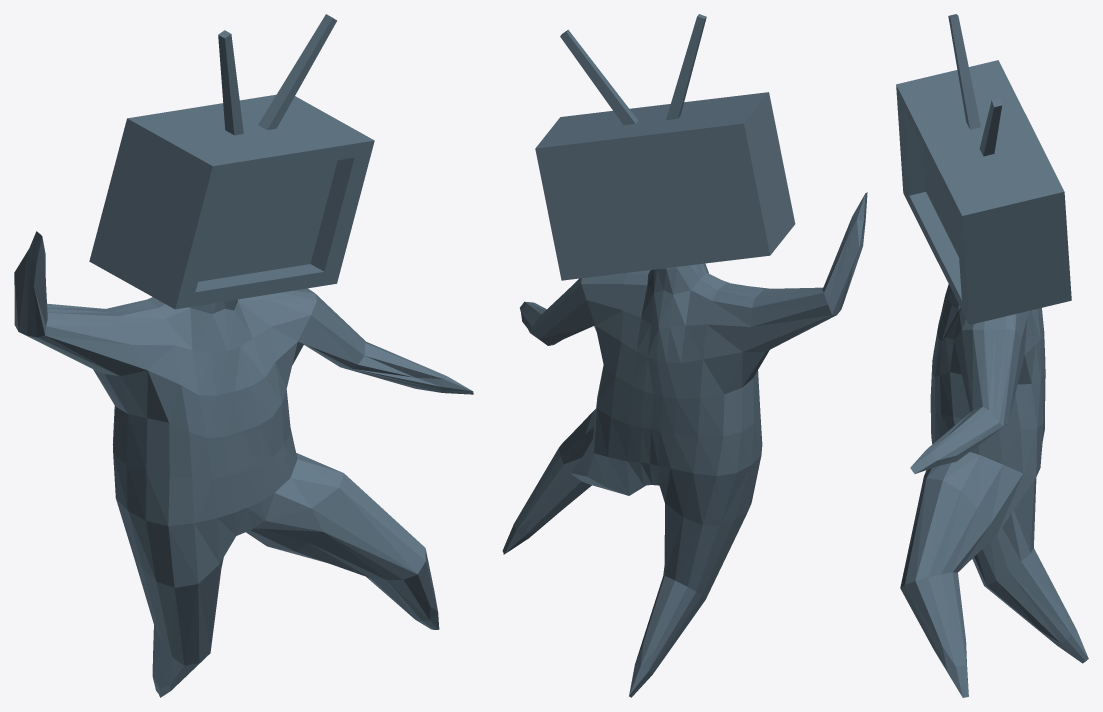
File: TVhead-cavorting2.dae
3 views of the same model, side by side, from view 1: azimuth 30°, elevation 25°; view 2: azimuth 150°, elevation 25°; view 3: azimuth 270°, elevation 25° (orthographic). The views are drawn at different scales.
Parts seen in each view (by area): view 1: Cube_001; view 2: Cube_001; view 3: Cube_001.
Part boxes in pixels (x1,y1,x2,y2): Cube_001: (14, 14, 473, 697); Cube_001: (502, 14, 867, 697); Cube_001: (896, 14, 1088, 697).
Size of the model in its own units: 4.6 by 2.03 by 7.5.
